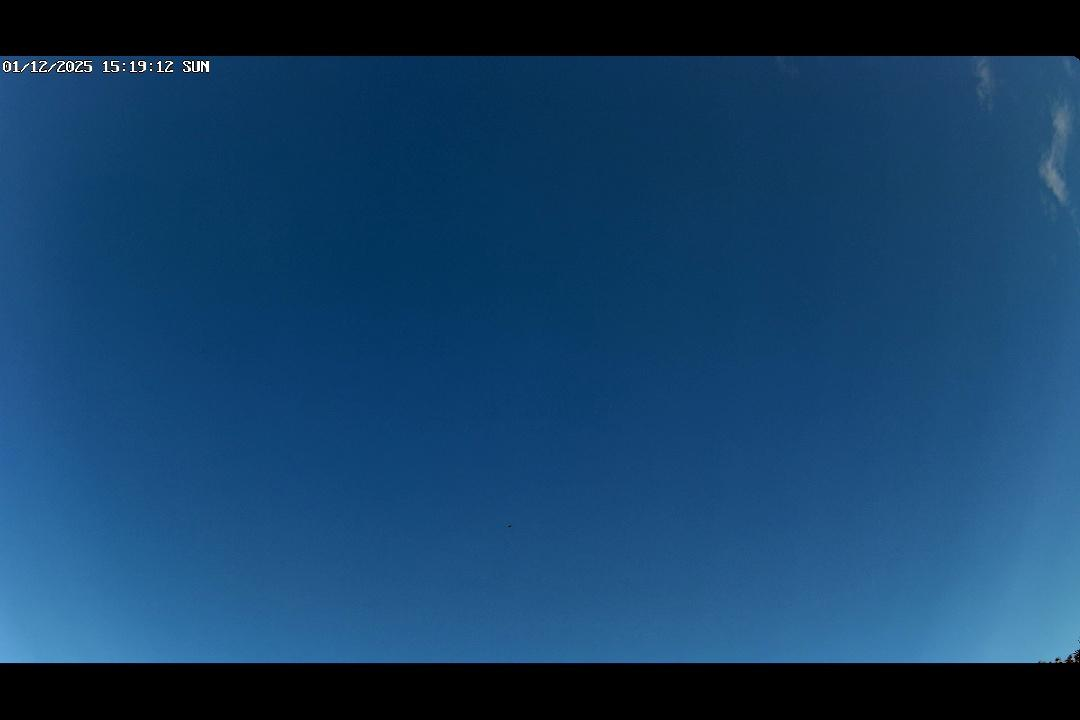WildLife: (498, 522, 518, 533)
